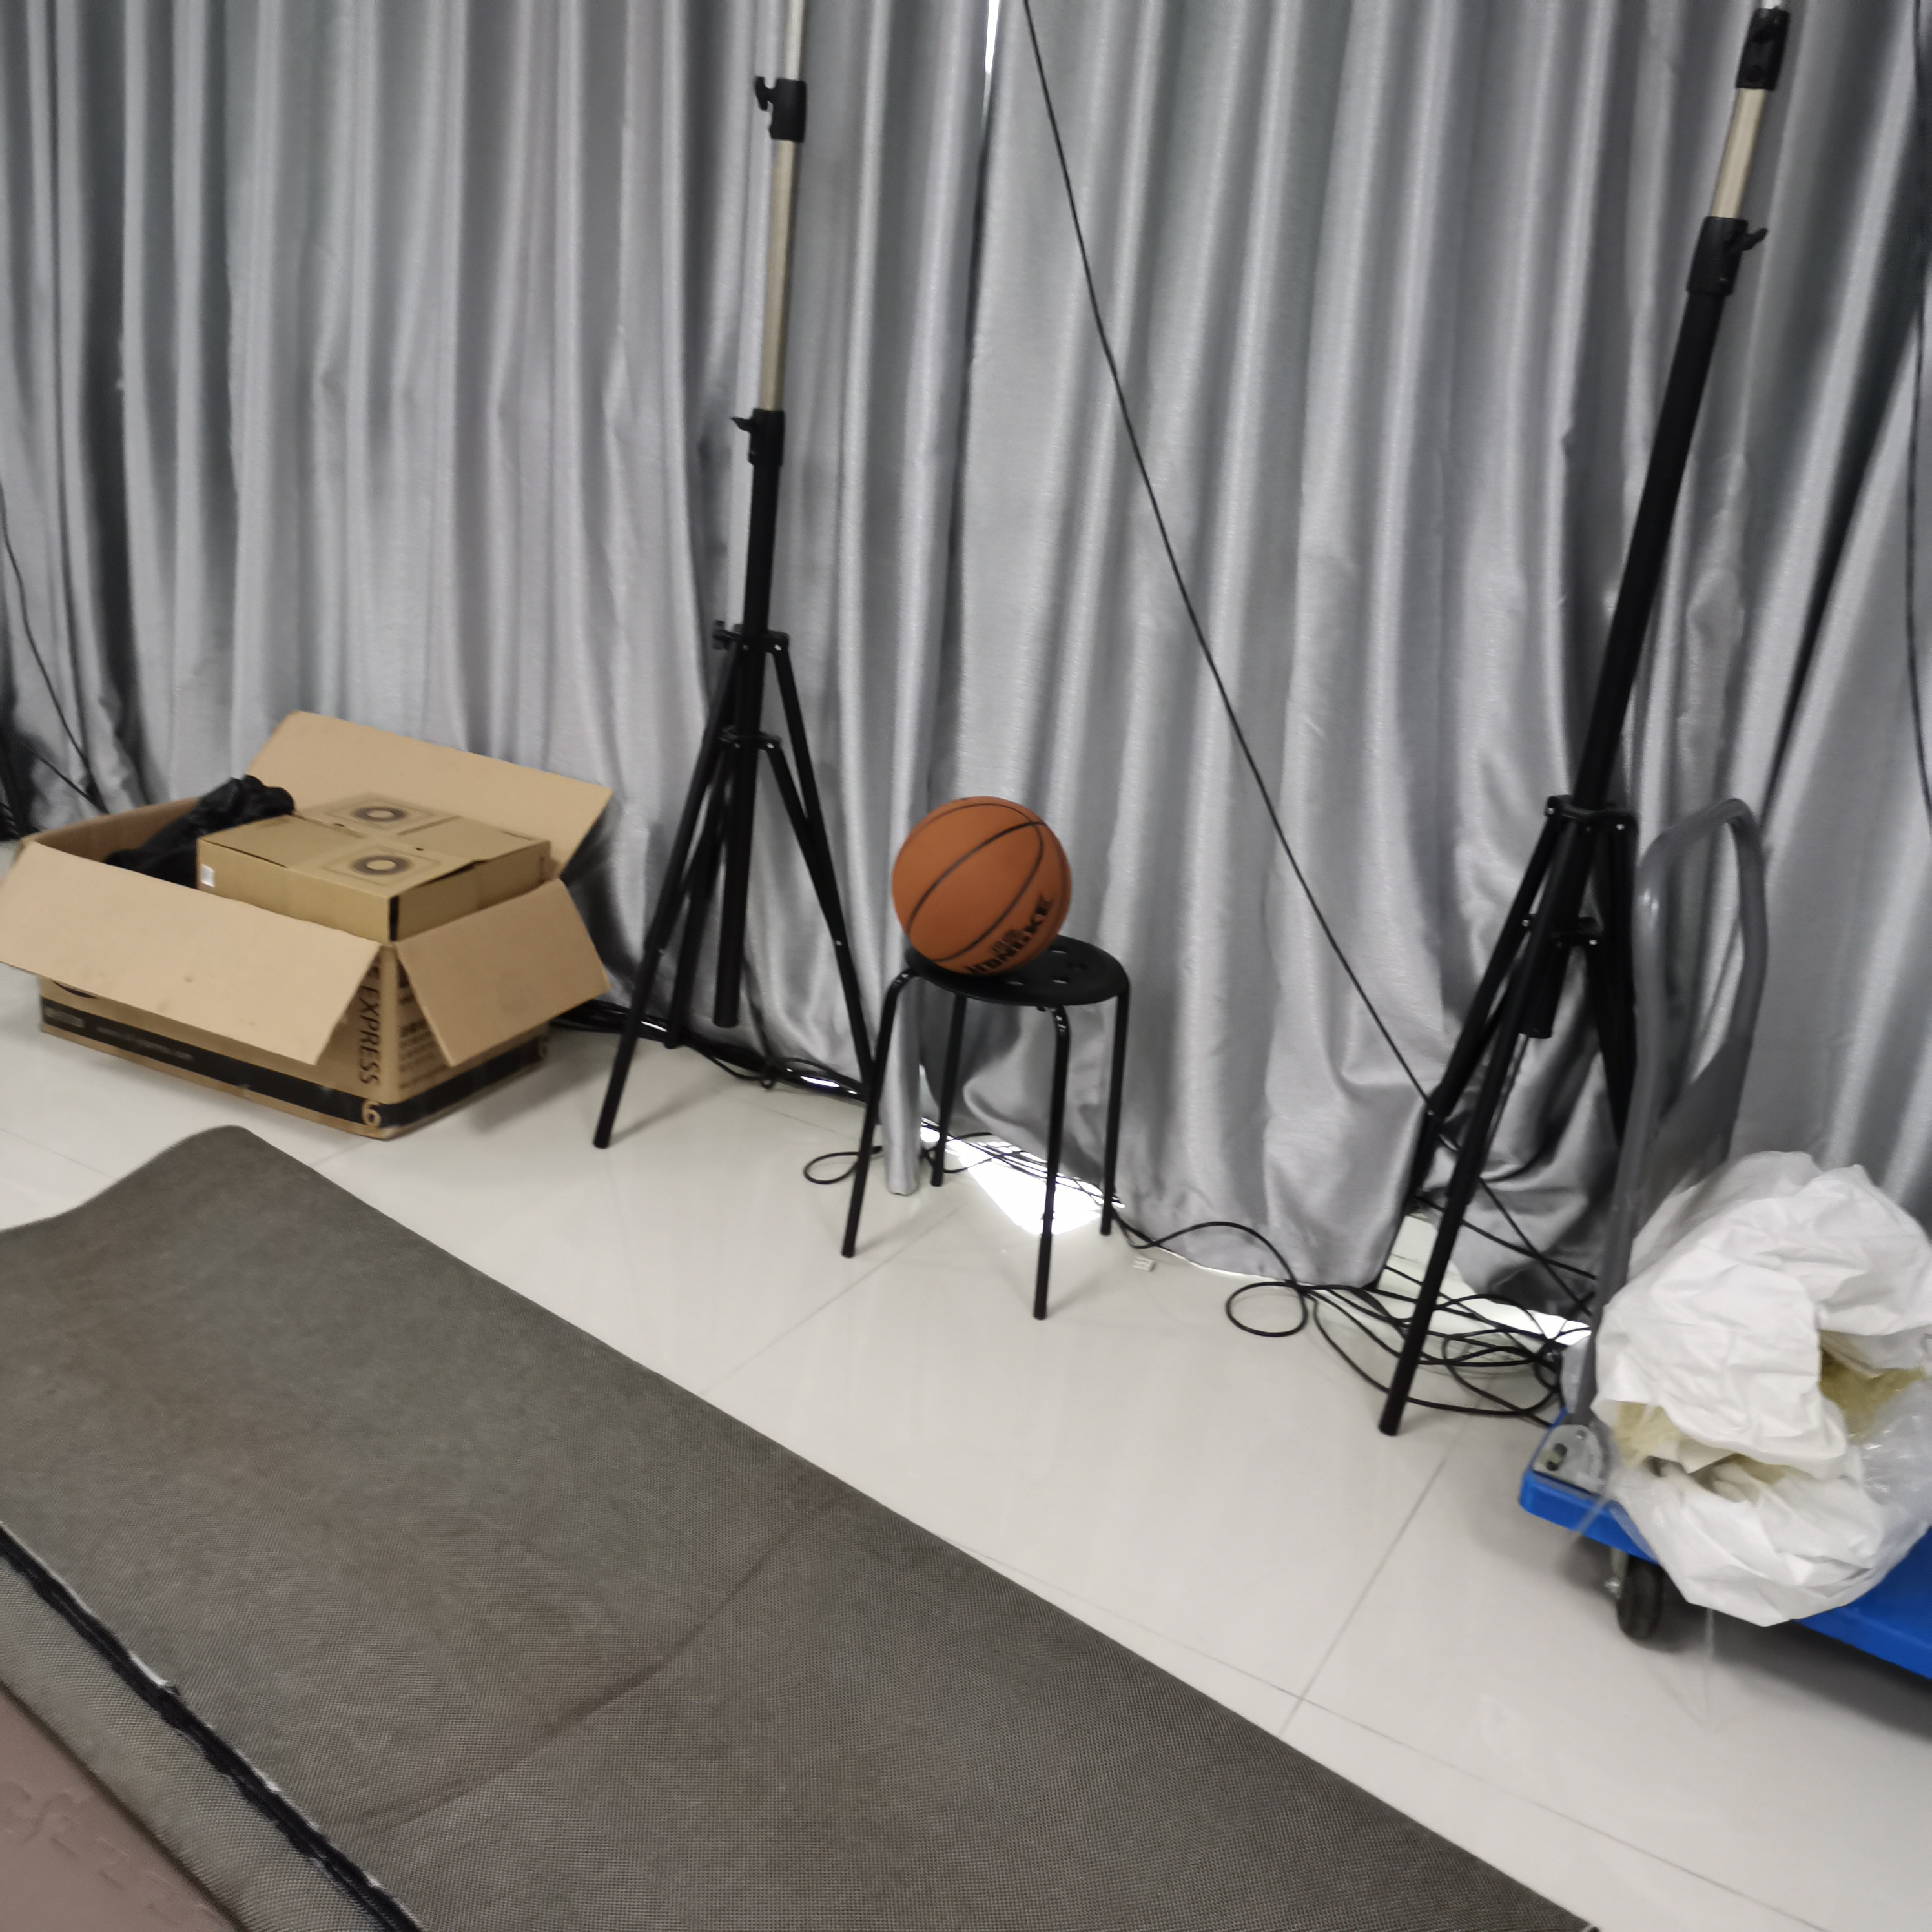basketball: (892, 796, 1072, 978)
